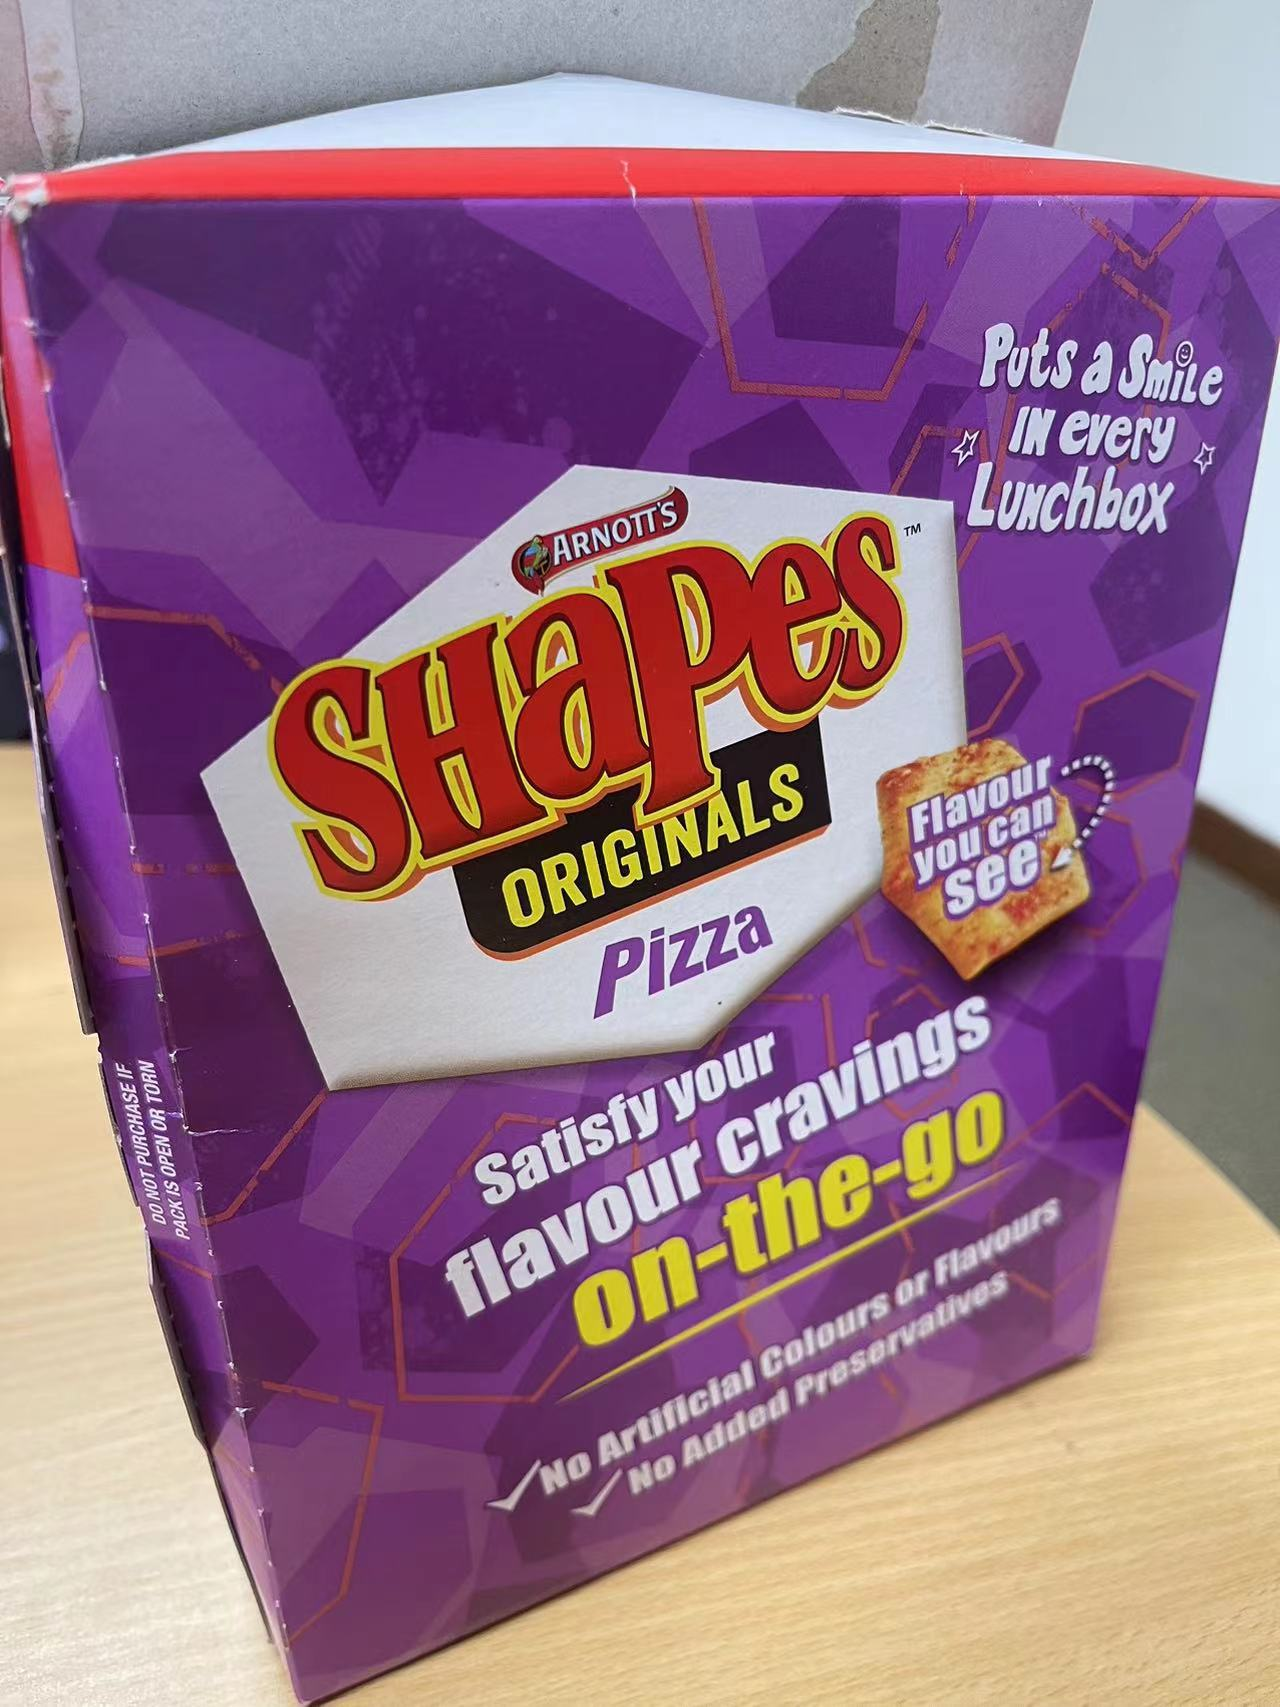Crackers_200-299g_NonHalal_NonHealthy: (5, 179, 1280, 1690)
